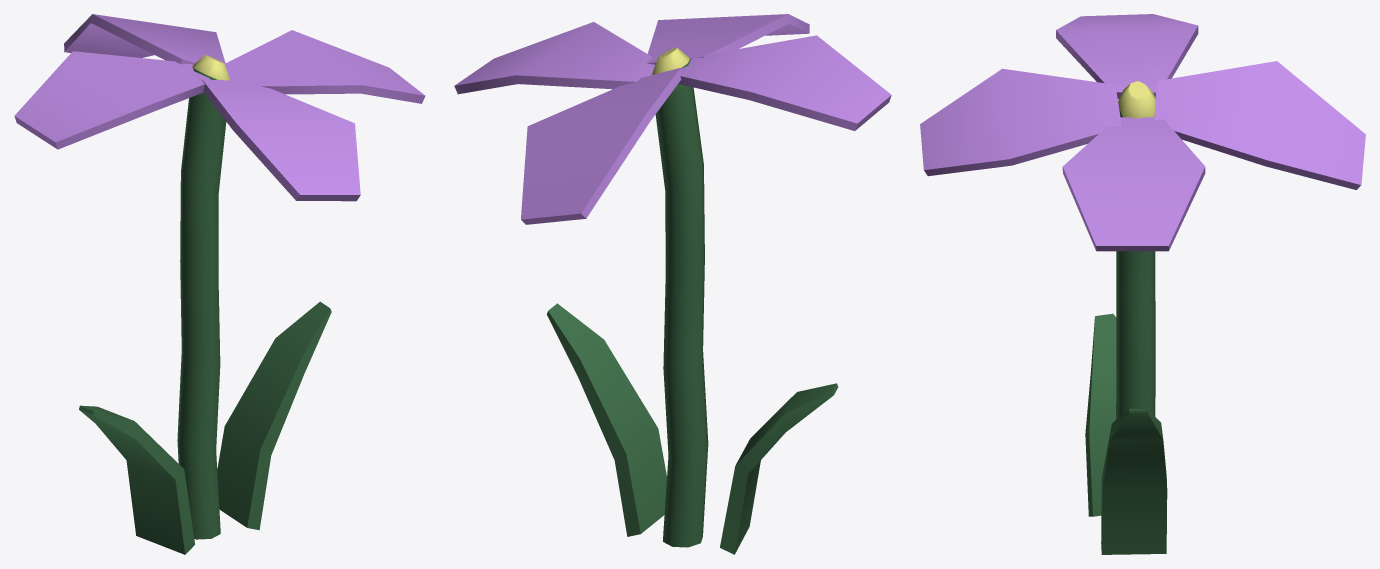
Rendered from Flower_Three.fbx.
The picture shows the model from 3 angles, left to right: view 1: azimuth 30°, elevation 25°; view 2: azimuth 150°, elevation 25°; view 3: azimuth 270°, elevation 25°; orthographic projection. The views are drawn at different scales.
Parts seen in each view (by area): view 1: Flower_Three; view 2: Flower_Three; view 3: Flower_Three.
Part boxes in pixels (x1,y1,x2,y2): Flower_Three: (14,14,425,554); Flower_Three: (454,14,891,554); Flower_Three: (920,14,1365,554).
Bounding box in the file's own units: 48.68 × 58.42 × 50.37.
